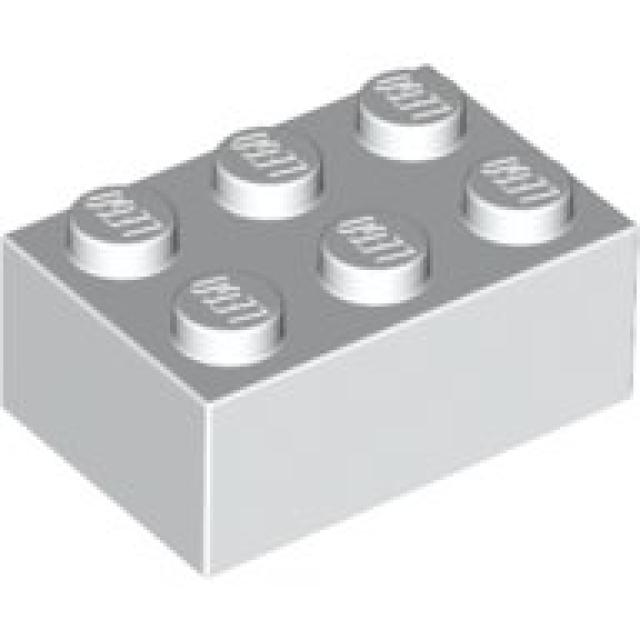White_Medium: (7, 63, 640, 580)
